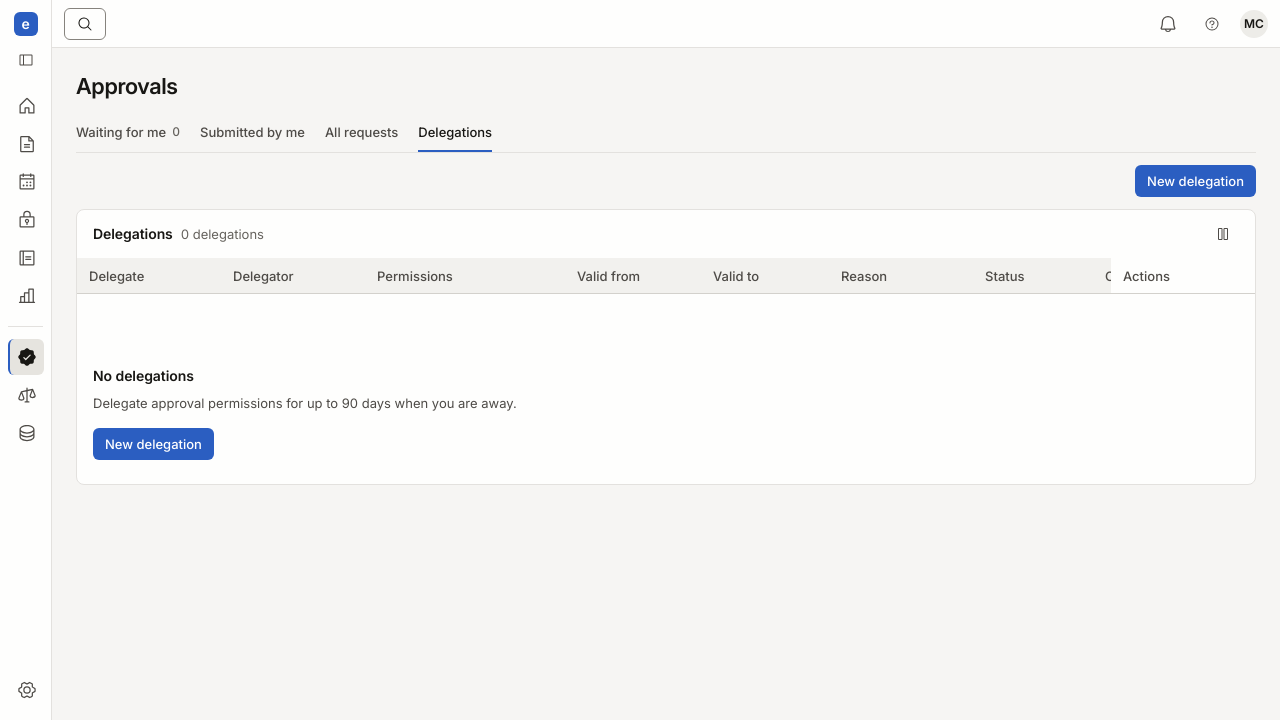
SF-12:delegations › the empty state names what belongs here and offers the first delegation
Expected: the heading "No delegations" is shown, [93, 366, 194, 386]
Expected: the text "Delegate approval permissions for up to 90 days when you are away." is shown, [93, 394, 517, 412]
Click the button "New delegation" below "No delegations" at (153, 444), box [93, 428, 214, 460]
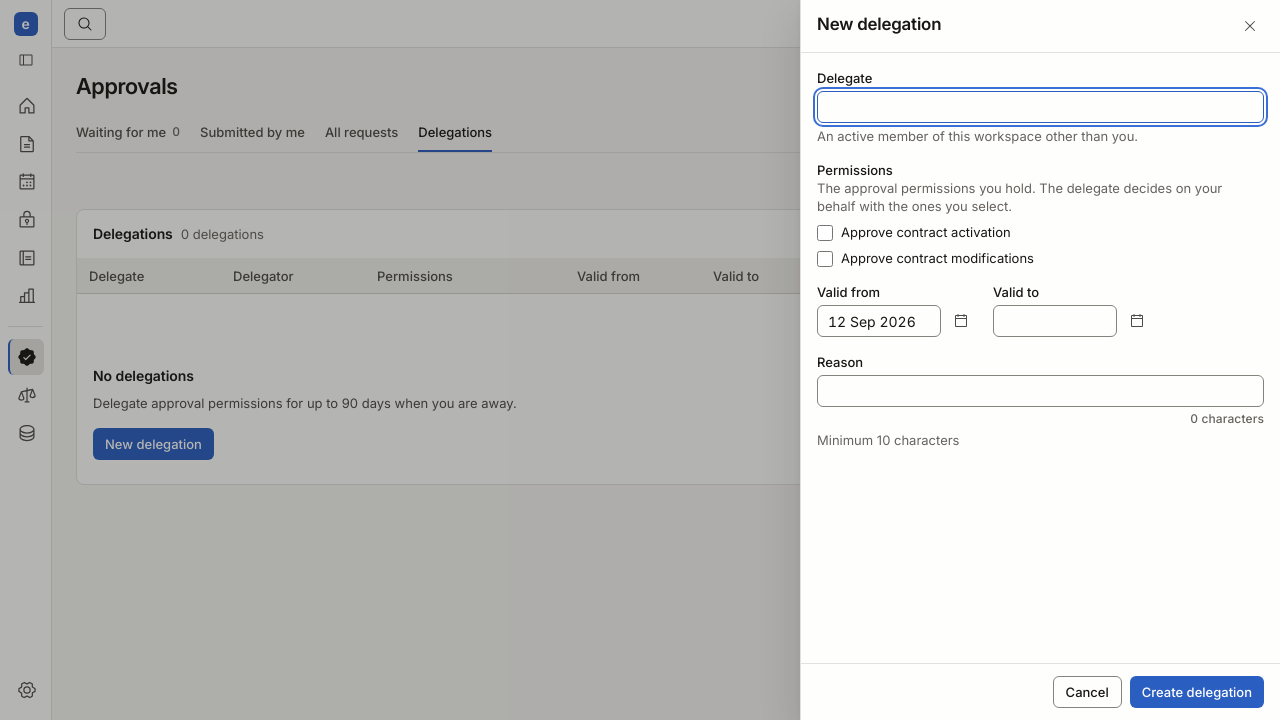
Now the dialog "New delegation" is shown, box [800, 0, 1279, 719]
